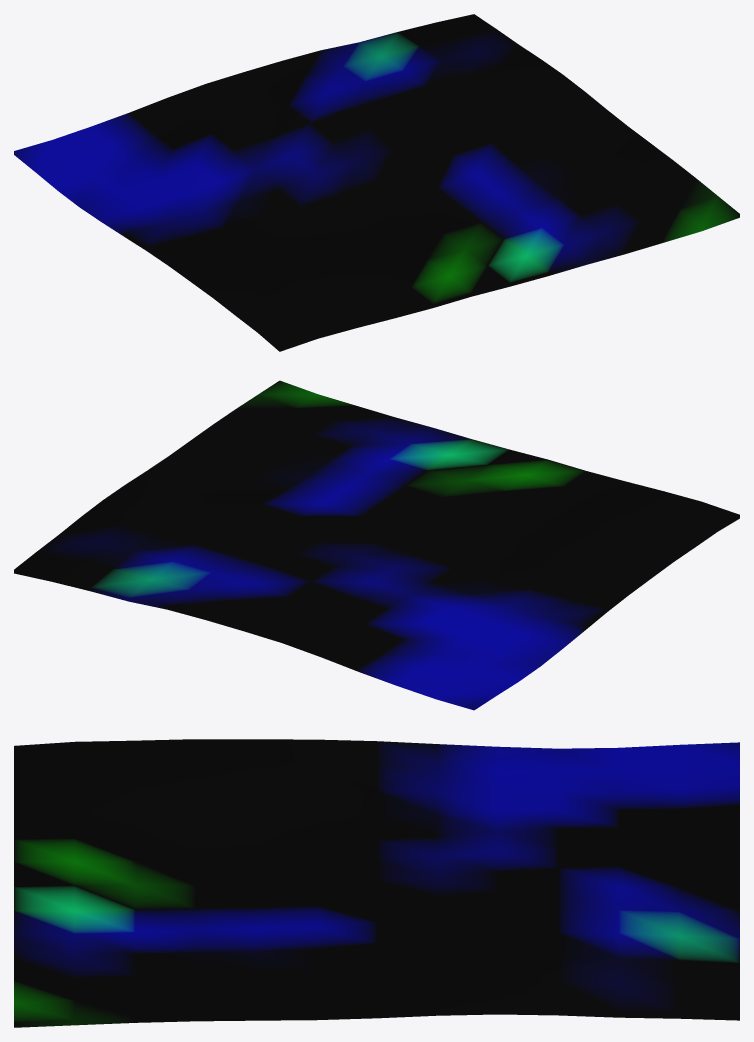
The model's file is coast_5_1.glb.
3 views of the same model, one above another, from view 1: azimuth 30°, elevation 25°; view 2: azimuth 150°, elevation 25°; view 3: azimuth 270°, elevation 25° (orthographic). The views are drawn at different scales.
Parts seen in each view (by area): view 1: terrain; view 2: terrain; view 3: terrain.
Boxes of the visible parts, box(x1,y1,x2,y2) form: terrain: box(14, 14, 739, 351); terrain: box(14, 380, 739, 710); terrain: box(14, 739, 739, 1027).
Bounding box in the file's own units: 192 × 15.54 × 192.
